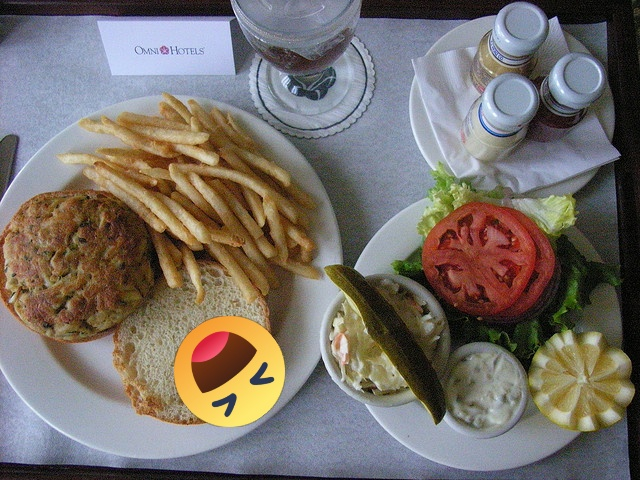haha: (174, 316, 285, 427)
